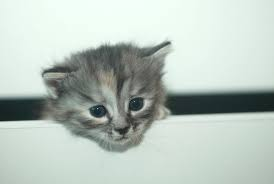cat: (24, 27, 195, 162)
